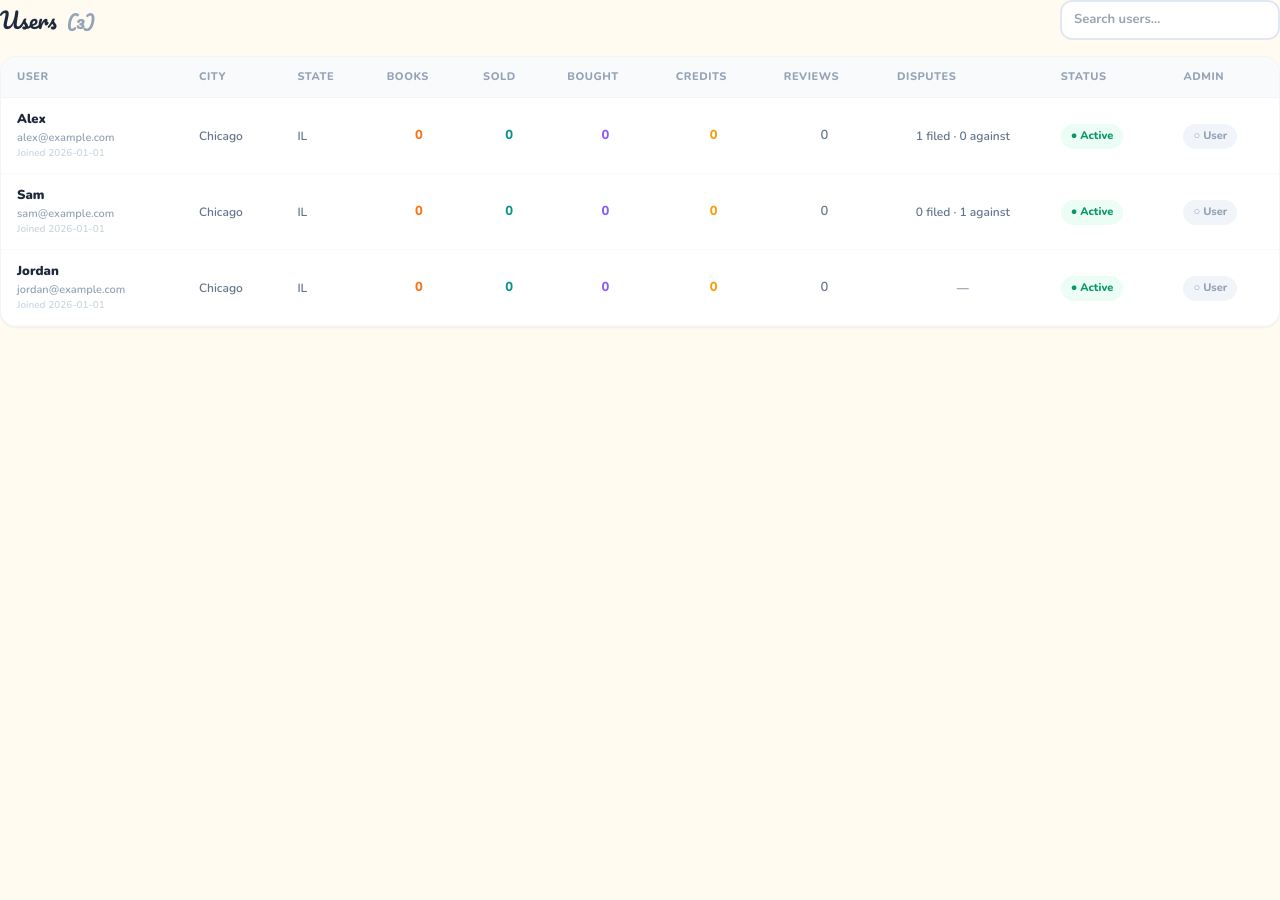
Test case: UsersTab › opens the user card when the row is clicked
Click the row that starts with "Alex".
click(640, 136)  # box [1,98,1279,174]
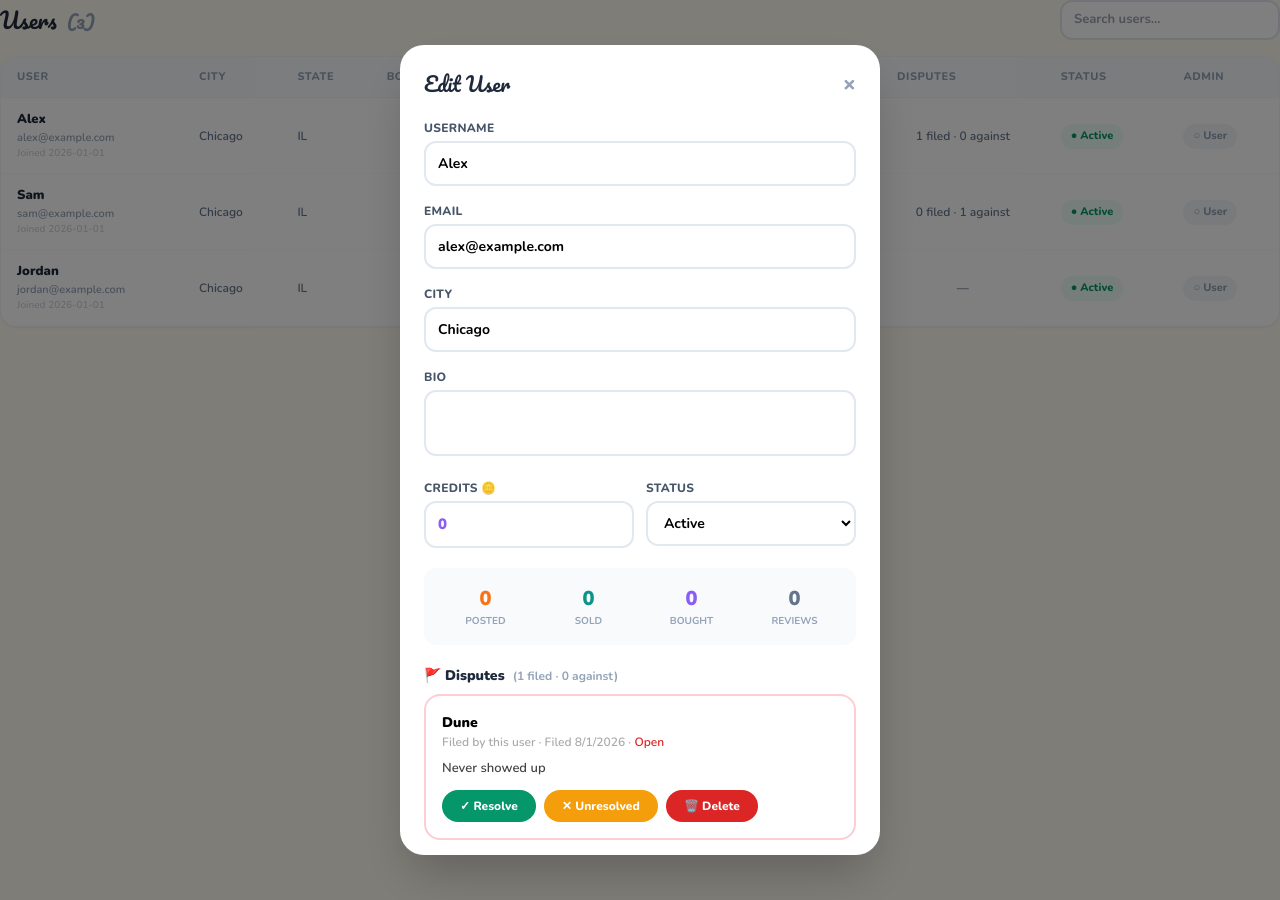
Expected: the heading "Edit User" is shown, [424,69,510,99]
